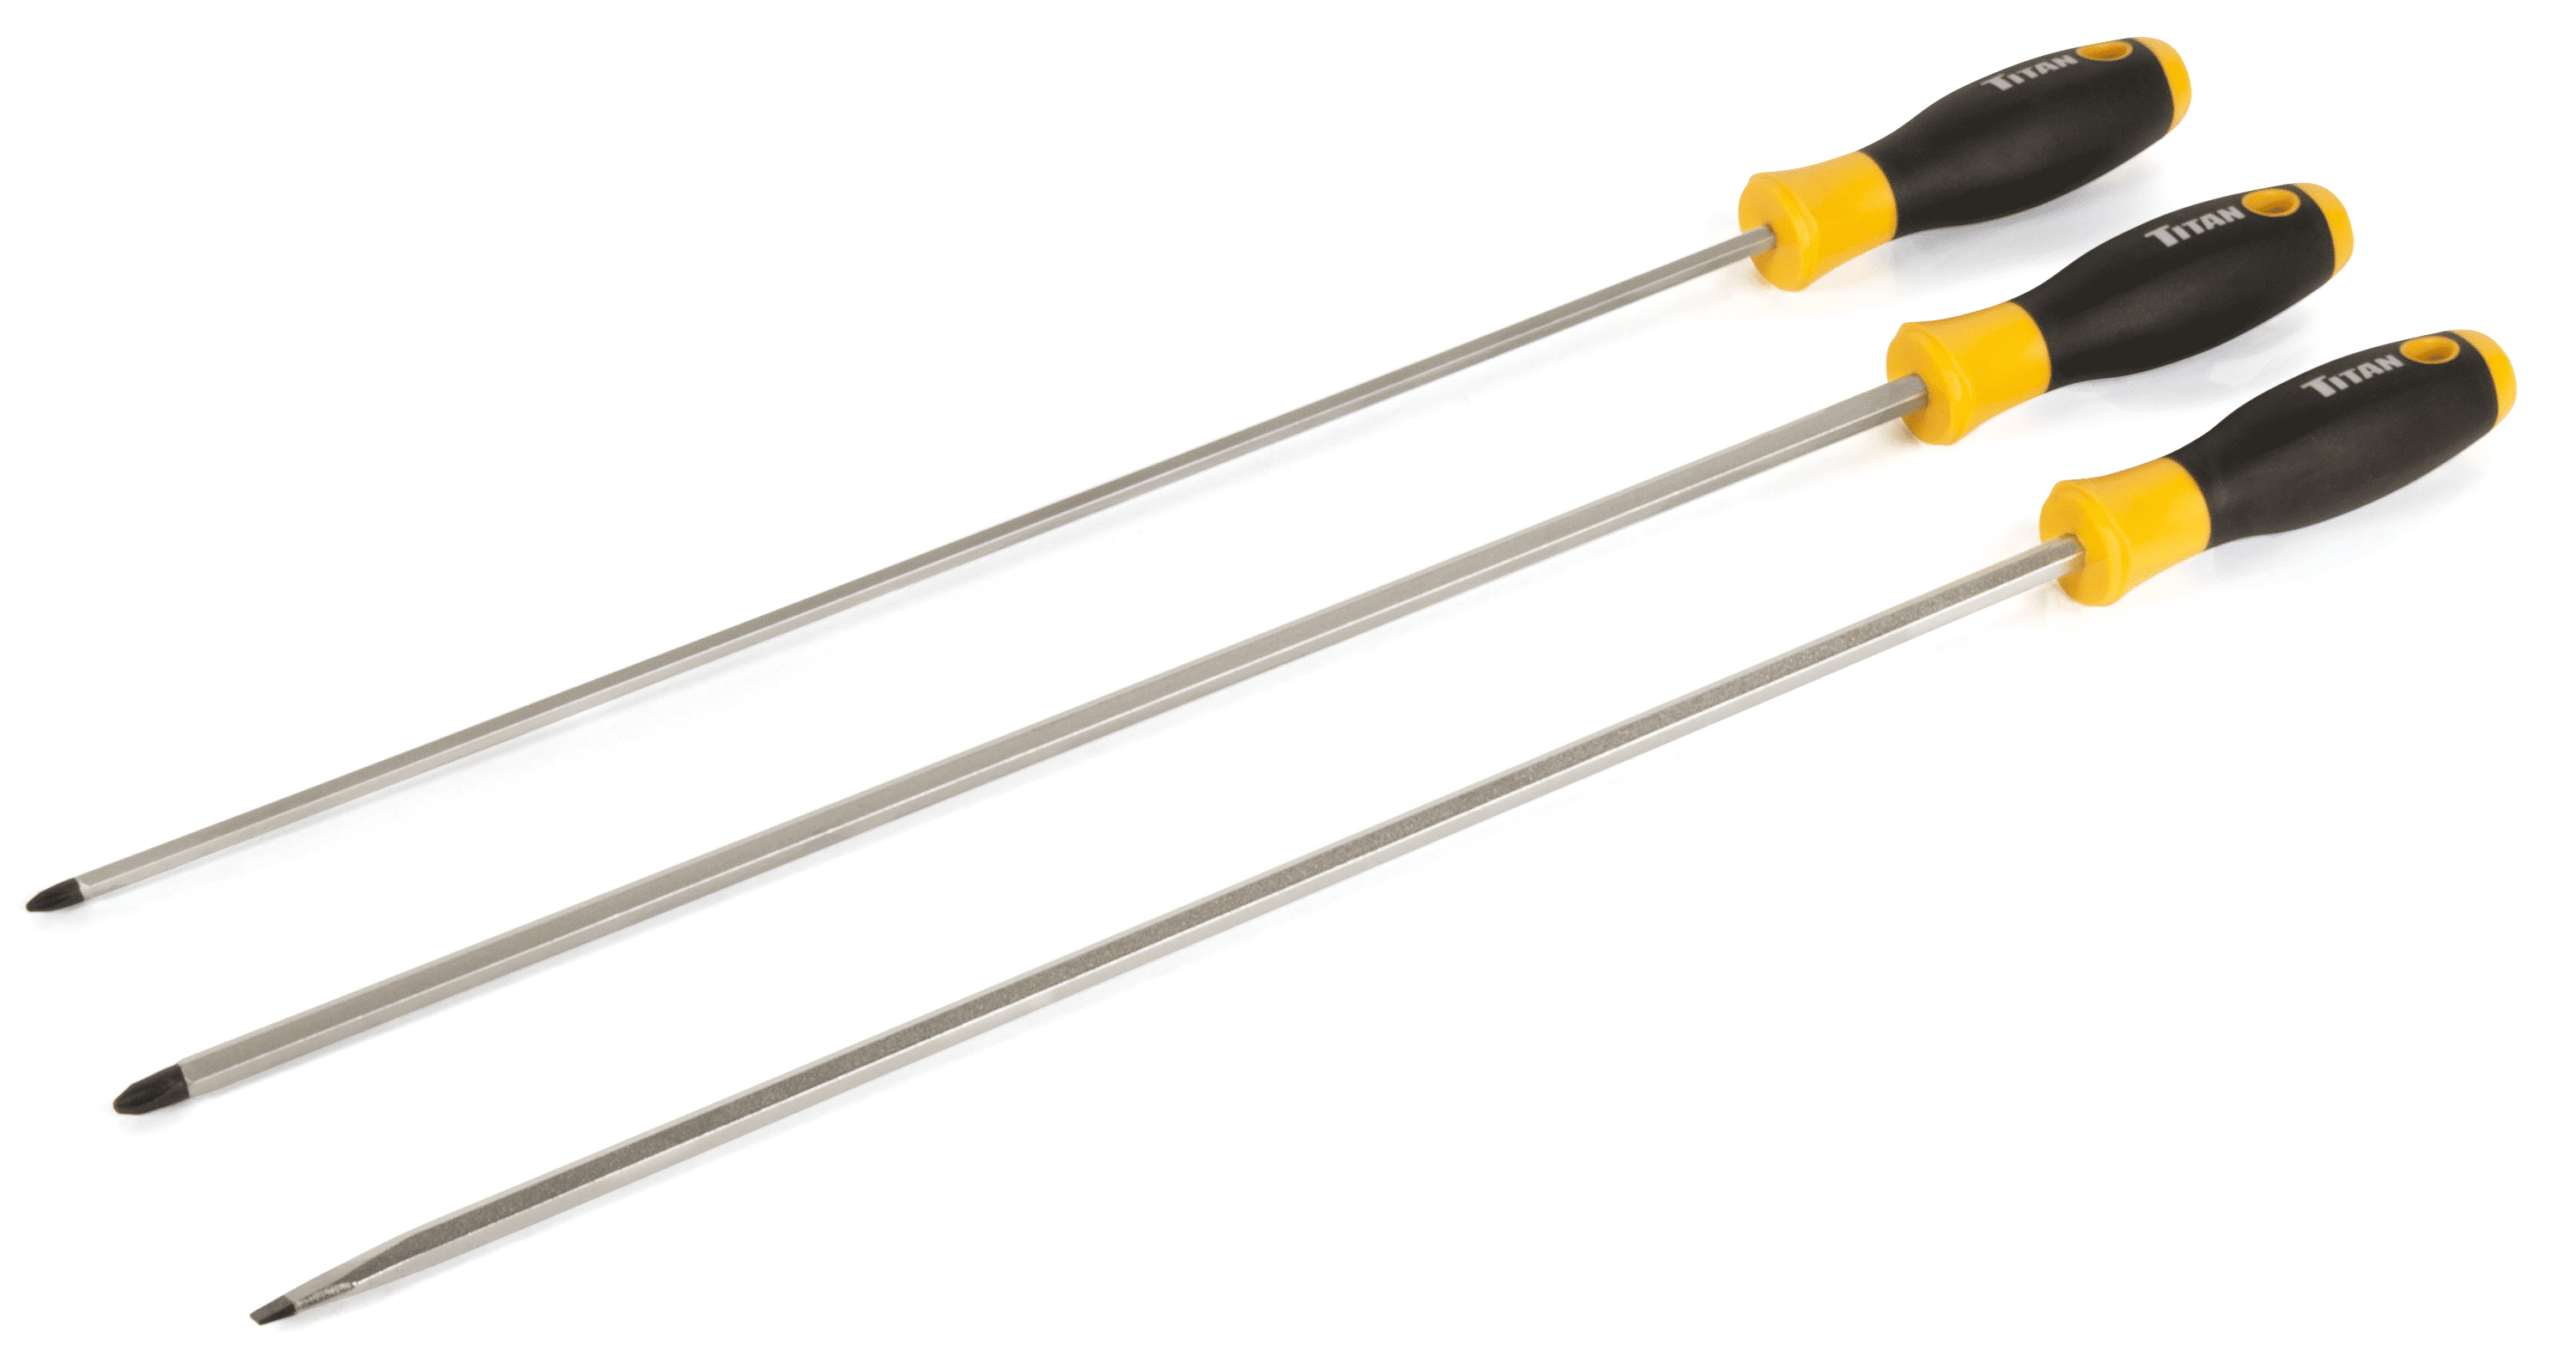screwdriver: (245, 315, 2545, 1327), (111, 177, 2356, 1126), (20, 22, 2196, 932)
